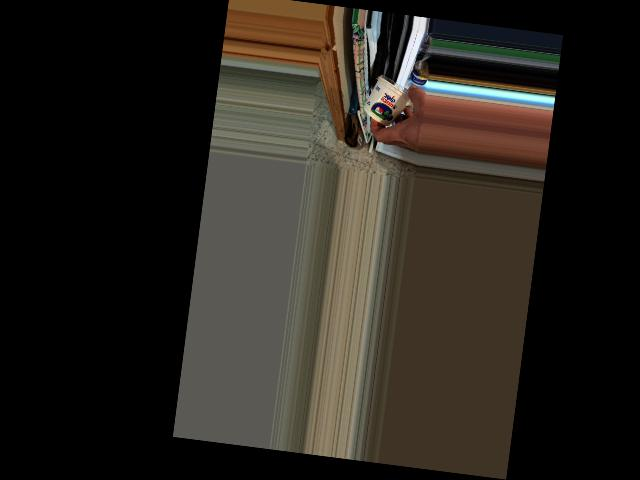cotage: (362, 71, 411, 126)
